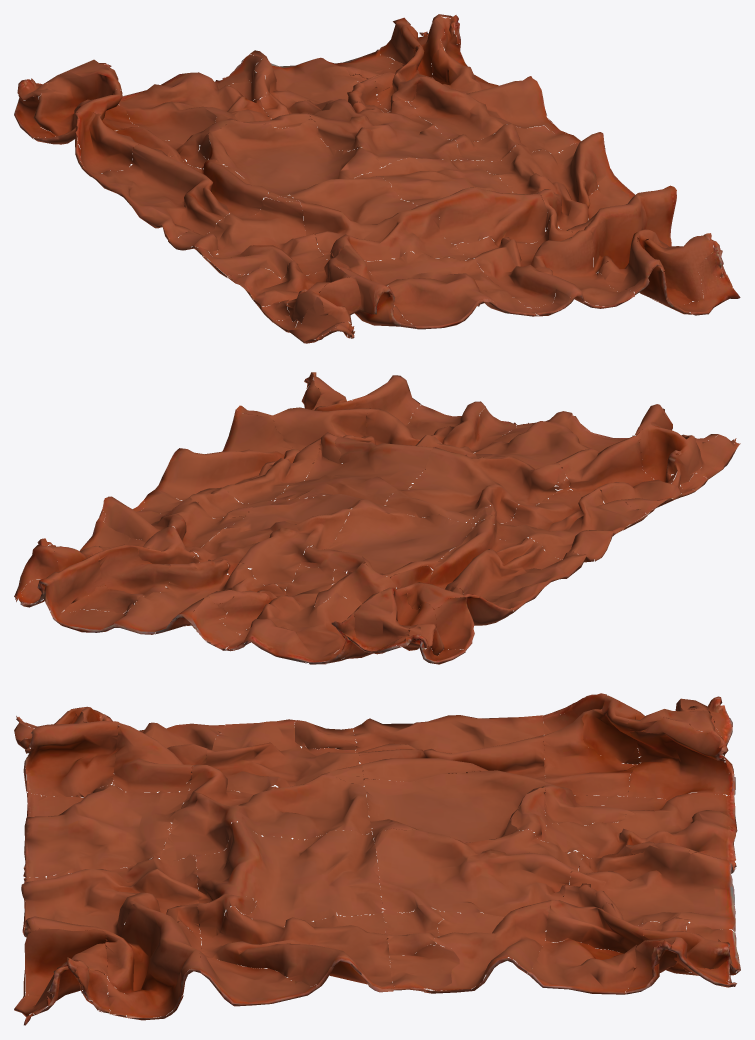
File: cloth.glb
The picture shows the model from 3 angles, top to bottom: view 1: azimuth 30°, elevation 25°; view 2: azimuth 150°, elevation 25°; view 3: azimuth 270°, elevation 25°; orthographic projection. The views are drawn at different scales.
Parts seen in each view (by area): view 1: tripo_node_95fc766e-f7b7-4c55-a8bc-48db85a3f019; view 2: tripo_node_95fc766e-f7b7-4c55-a8bc-48db85a3f019; view 3: tripo_node_95fc766e-f7b7-4c55-a8bc-48db85a3f019.
Boxes of the visible parts, x1=… form: tripo_node_95fc766e-f7b7-4c55-a8bc-48db85a3f019: x1=14, y1=14, x2=740, y2=343; tripo_node_95fc766e-f7b7-4c55-a8bc-48db85a3f019: x1=14, y1=372, x2=740, y2=664; tripo_node_95fc766e-f7b7-4c55-a8bc-48db85a3f019: x1=14, y1=693, x2=740, y2=1025.
Size of the model in its own units: 0.7836 by 0.1946 by 1.
1 material, 1 textured.
